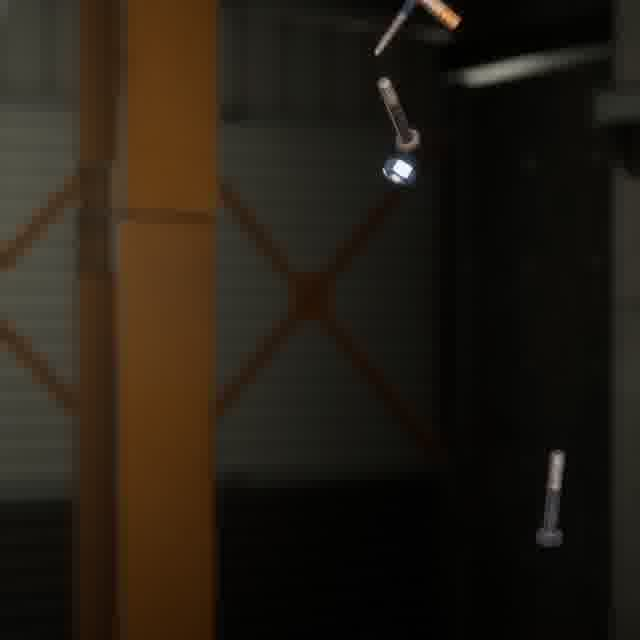bolt: (372, 72, 424, 157), (532, 444, 569, 551), (369, 0, 424, 61), (409, 0, 465, 35)
nut: (378, 153, 420, 190)
